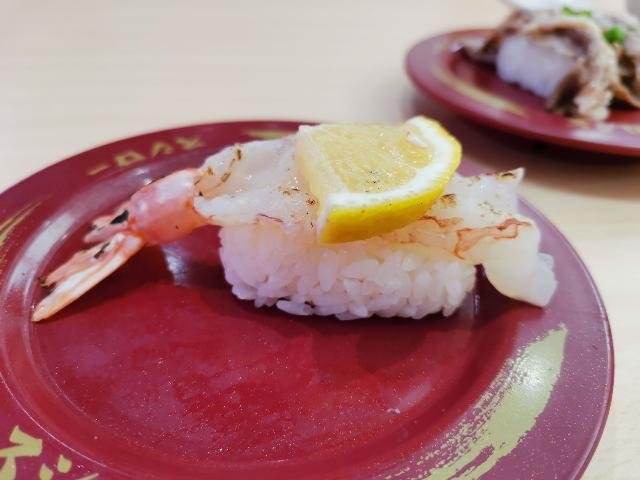janred: (2, 127, 611, 480), (407, 27, 640, 149)
